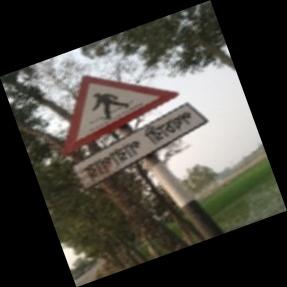Pedestrian-crossing: (62, 74, 209, 193)
